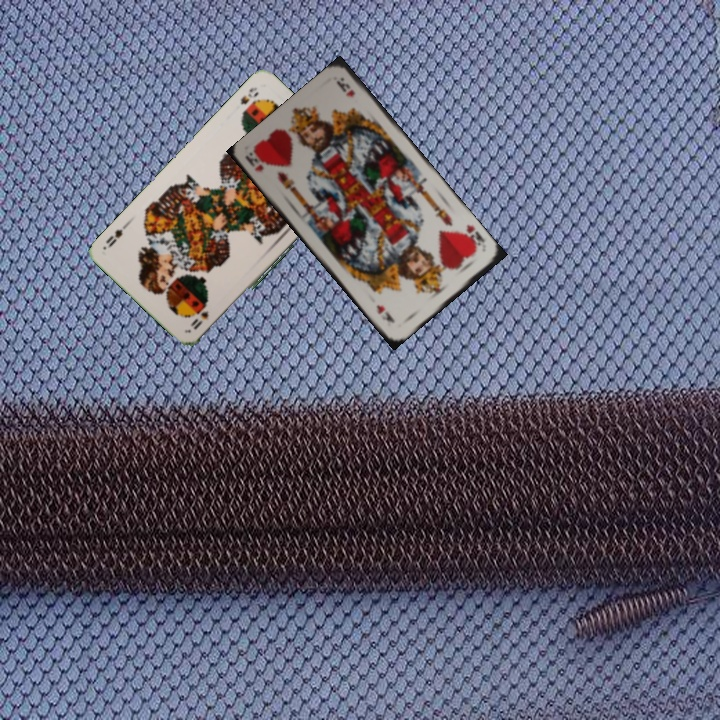HK: (457, 220, 488, 253), (242, 148, 266, 174)
SO: (236, 83, 261, 107), (189, 306, 212, 332)
